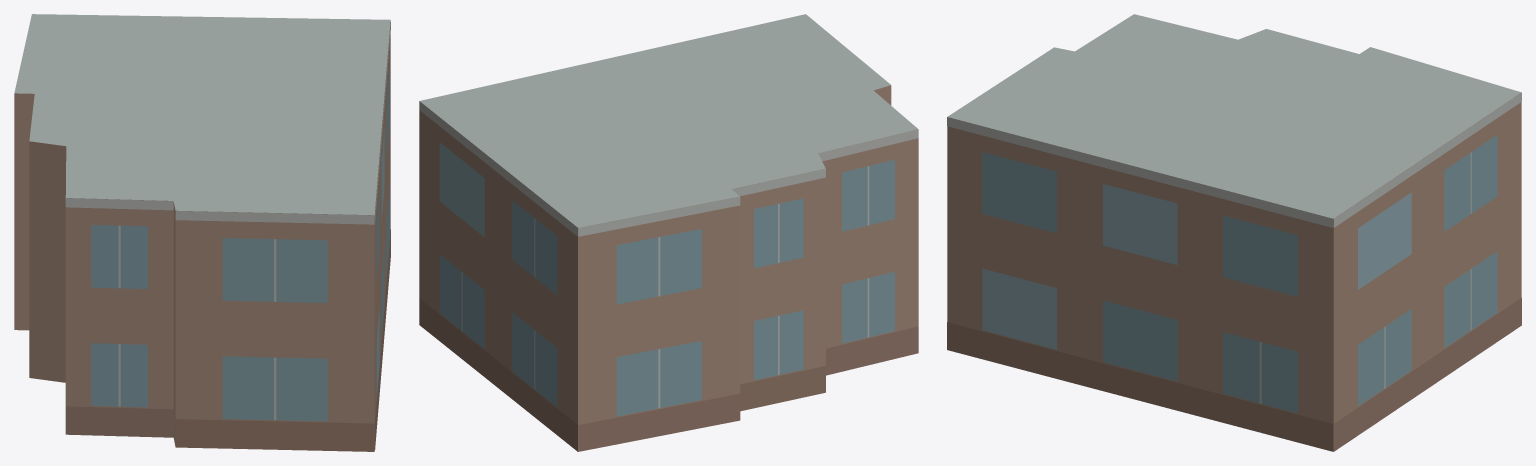
The model's file is survey-upis-32476358.glb.
The picture shows the model from 3 angles, left to right: view 1: azimuth 30°, elevation 25°; view 2: azimuth 150°, elevation 25°; view 3: azimuth 270°, elevation 25°; orthographic projection. The views are drawn at different scales.
Parts seen in each view (by area): view 1: survey-upis-32476358.tmp; view 2: survey-upis-32476358.tmp; view 3: survey-upis-32476358.tmp.
Part boxes in pixels (bbox=[...]): survey-upis-32476358.tmp: bbox=[14, 14, 390, 451]; survey-upis-32476358.tmp: bbox=[419, 14, 918, 451]; survey-upis-32476358.tmp: bbox=[947, 14, 1521, 451].
Bounding box in the file's own units: 11.51 × 6.1 × 13.64.
